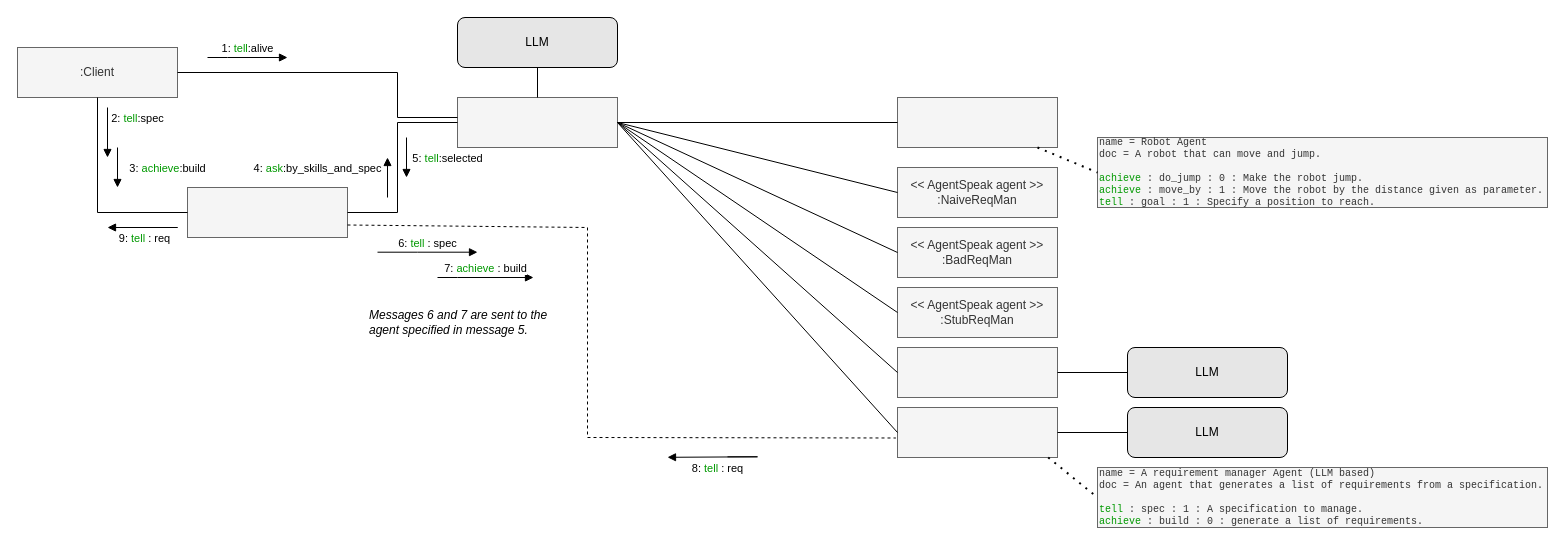
Some shapes in this 1565 by 545 pixel diagram are drawn without their labels. Here are the shapes that lost their labels. From the top down, the centre of each, then its label:
(537,122): << ACL agent >> :RepositoryAgent
(977,122): << AgentSpeak agent >> :RobotAgent
(267,212): <<AgentSpeak agent>> :Selector
(977,372): << AgentSpeak agent >> :Mi stralReqMan
(977,432): << AgentSpeak agent >> :OpenAI ReqMan
